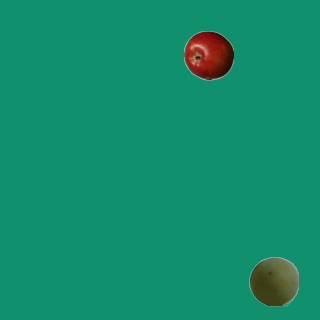Apple Braeburn: (183, 30, 233, 80)
Grape White 4: (248, 256, 298, 306)
